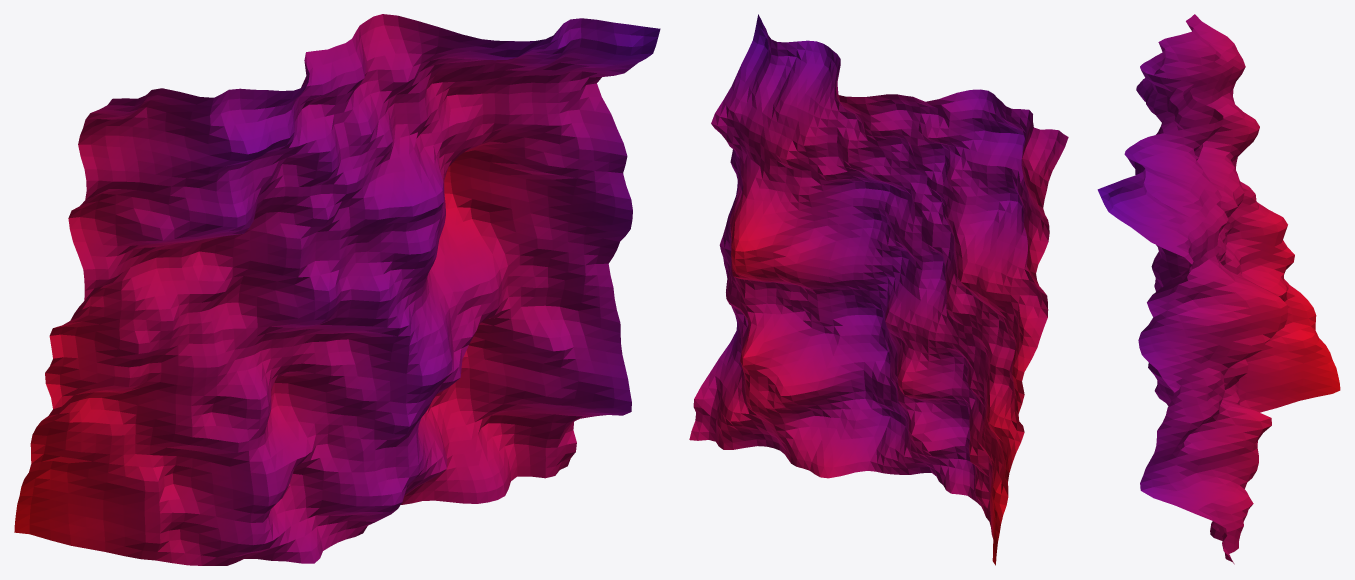
Rendered from colored.obj.
3 views of the same model, side by side, from view 1: azimuth 30°, elevation 25°; view 2: azimuth 150°, elevation 25°; view 3: azimuth 270°, elevation 25° (orthographic). The views are drawn at different scales.
Size of the model in its own units: 50 by 50 by 29.26.
1 material, 1 textured.
